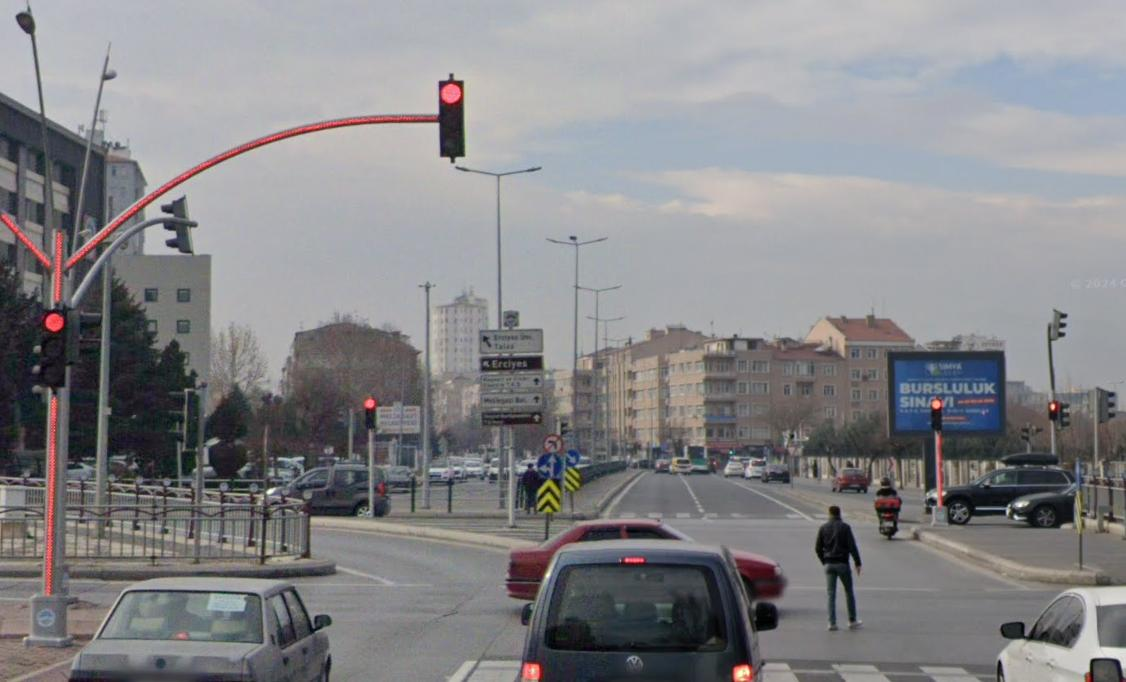leftturnsareforbidden: (544, 432, 565, 455)
redlight: (36, 304, 67, 393), (436, 80, 466, 158), (930, 398, 944, 432), (364, 397, 377, 430)
